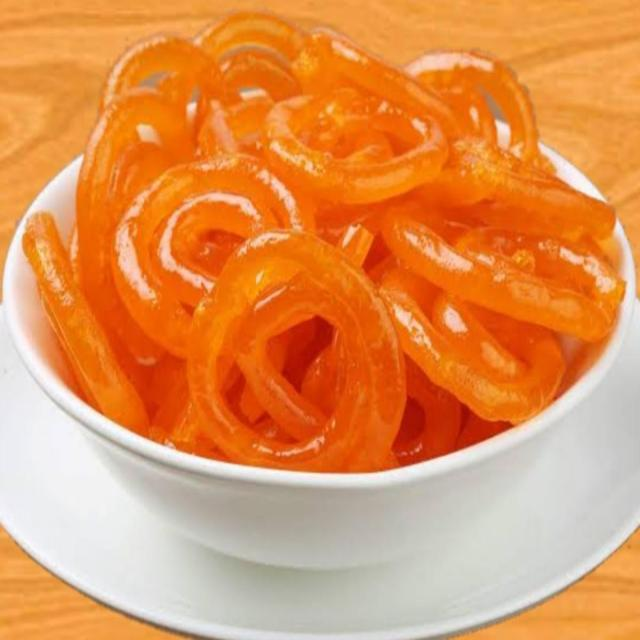jalebi: (30, 11, 585, 494)
